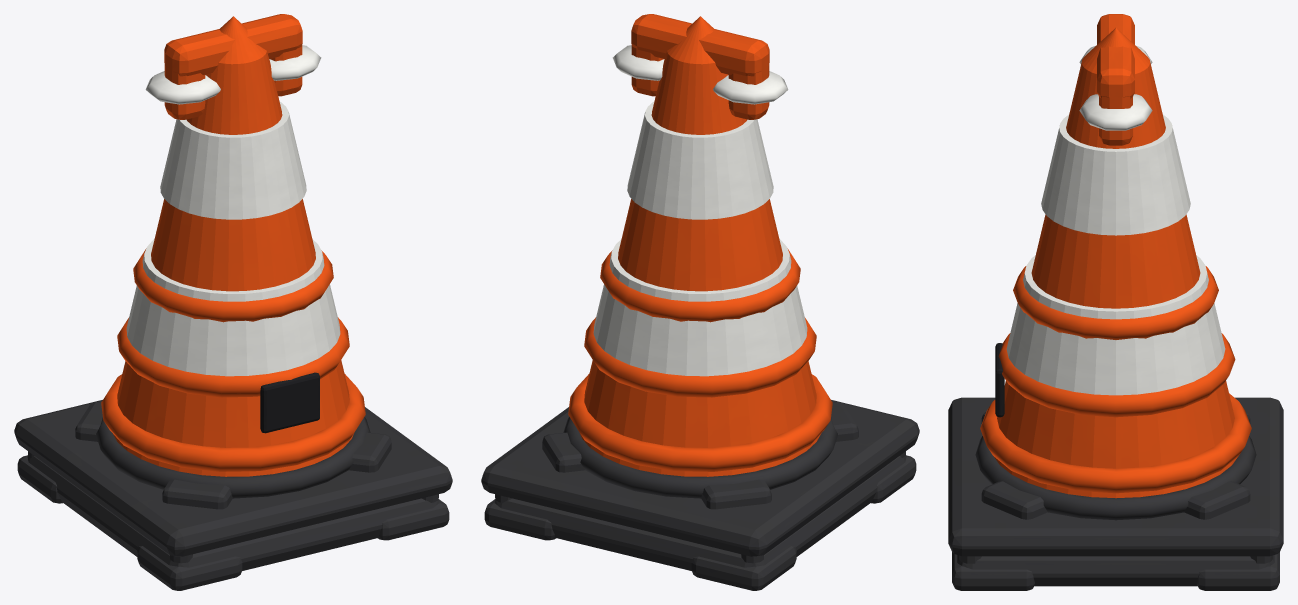
The model's file is prop_traffic_cone.glb.
The picture shows the model from 3 angles, left to right: view 1: azimuth 30°, elevation 25°; view 2: azimuth 150°, elevation 25°; view 3: azimuth 270°, elevation 25°; orthographic projection. The views are drawn at different scales.
Parts seen in each view (by area): view 1: prop_traffic_cone_body, prop_traffic_cone_skirt, prop_traffic_cone_band_0, prop_traffic_cone_band_1, prop_traffic_cone_base, prop_traffic_cone_rib_0, prop_traffic_cone_collar, prop_traffic_cone_rib_1, prop_traffic_cone_rib_2, prop_traffic_cone_handle_bridge, prop_traffic_cone_label, prop_traffic_cone_foot_lf (+10 smaller); view 2: prop_traffic_cone_body, prop_traffic_cone_skirt, prop_traffic_cone_band_0, prop_traffic_cone_band_1, prop_traffic_cone_base, prop_traffic_cone_rib_0, prop_traffic_cone_collar, prop_traffic_cone_rib_1, prop_traffic_cone_rib_2, prop_traffic_cone_handle_bridge, prop_traffic_cone_foot_lb, prop_traffic_cone_skirt_chamfer_1 (+9 smaller); view 3: prop_traffic_cone_body, prop_traffic_cone_skirt, prop_traffic_cone_band_0, prop_traffic_cone_band_1, prop_traffic_cone_rib_0, prop_traffic_cone_base, prop_traffic_cone_collar, prop_traffic_cone_rib_1, prop_traffic_cone_rib_2, prop_traffic_cone_handle_bridge, prop_traffic_cone_foot_rf, prop_traffic_cone_foot_rb (+6 smaller).
Boxes of the visible parts, <box> form: prop_traffic_cone_body: <box>112,51,353,476</box>; prop_traffic_cone_skirt: <box>14,400,452,556</box>; prop_traffic_cone_band_0: <box>126,239,340,376</box>; prop_traffic_cone_band_1: <box>160,101,306,219</box>; prop_traffic_cone_base: <box>27,455,439,570</box>; prop_traffic_cone_rib_0: <box>101,374,365,471</box>; prop_traffic_cone_collar: <box>96,417,370,498</box>; prop_traffic_cone_rib_1: <box>117,317,349,397</box>; prop_traffic_cone_rib_2: <box>133,248,333,322</box>; prop_traffic_cone_handle_bridge: <box>164,14,302,76</box>; prop_traffic_cone_label: <box>260,372,319,433</box>; prop_traffic_cone_foot_lf: <box>137,546,242,590</box>; prop_traffic_cone_body: <box>580,51,821,476</box>; prop_traffic_cone_skirt: <box>481,400,919,556</box>; prop_traffic_cone_band_0: <box>593,239,807,376</box>; prop_traffic_cone_band_1: <box>627,101,773,219</box>; prop_traffic_cone_base: <box>494,455,906,570</box>; prop_traffic_cone_rib_0: <box>568,374,832,471</box>; prop_traffic_cone_collar: <box>563,417,837,498</box>; prop_traffic_cone_rib_1: <box>584,317,816,397</box>; prop_traffic_cone_rib_2: <box>600,248,800,322</box>; prop_traffic_cone_handle_bridge: <box>631,14,769,76</box>; prop_traffic_cone_foot_lb: <box>691,546,796,590</box>; prop_traffic_cone_skirt_chamfer_1: <box>701,479,771,509</box>; prop_traffic_cone_body: <box>993,63,1238,498</box>; prop_traffic_cone_skirt: <box>948,397,1283,556</box>; prop_traffic_cone_band_0: <box>1006,255,1225,395</box>; prop_traffic_cone_band_1: <box>1041,114,1190,235</box>; prop_traffic_cone_rib_0: <box>980,393,1251,493</box>; prop_traffic_cone_base: <box>957,555,1274,586</box>; prop_traffic_cone_collar: <box>975,436,1256,520</box>; prop_traffic_cone_rib_1: <box>998,333,1235,417</box>; prop_traffic_cone_rib_2: <box>1013,266,1218,339</box>; prop_traffic_cone_handle_bridge: <box>1097,14,1134,98</box>; prop_traffic_cone_foot_rf: <box>952,552,1034,590</box>; prop_traffic_cone_foot_rb: <box>1197,552,1279,590</box>.
Bounding box in the file's own units: 0.44 × 0.72 × 0.44.
Materials: 4 (4 with a texture image).
